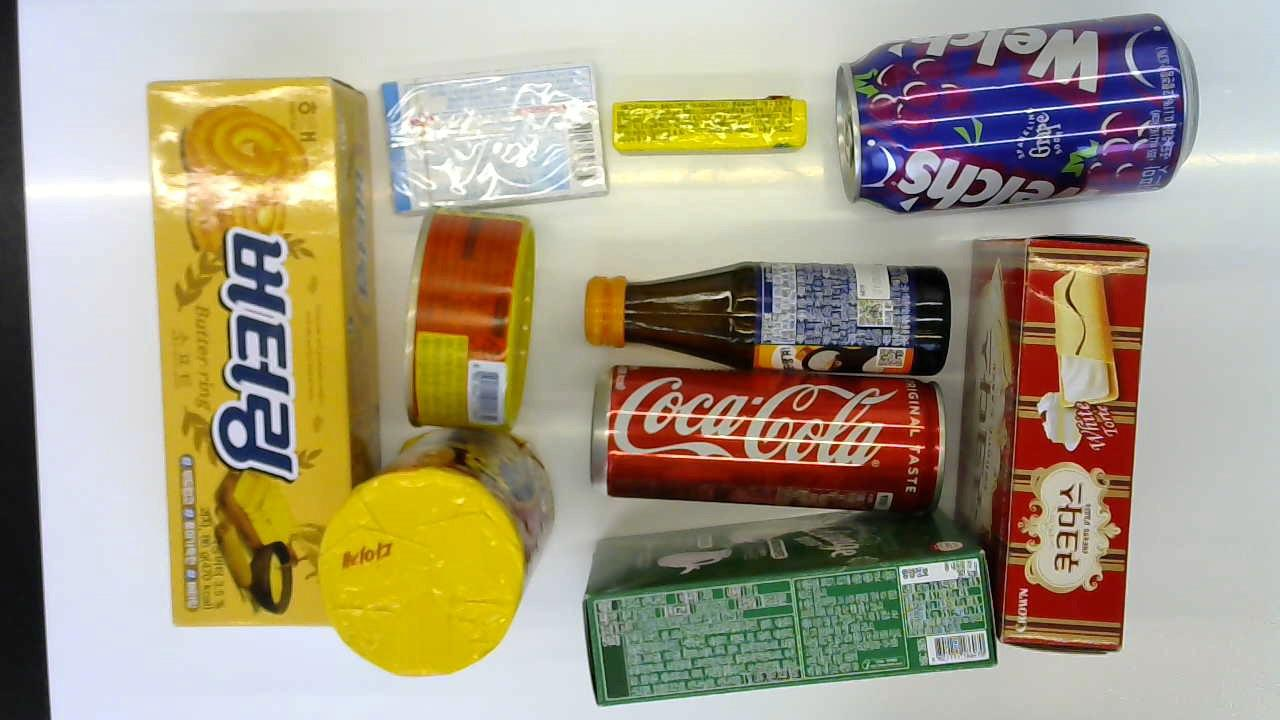ID_gum: (378, 58, 614, 220)
buttering: (143, 76, 375, 627)
coke: (595, 364, 939, 524)
couque_white: (955, 241, 1152, 658), (583, 514, 989, 703)
diget_choco: (315, 422, 554, 679)
spearmint: (611, 96, 809, 154)
tuna: (392, 205, 534, 429)
vita500: (583, 259, 951, 376)
welchs: (832, 11, 1197, 220)
